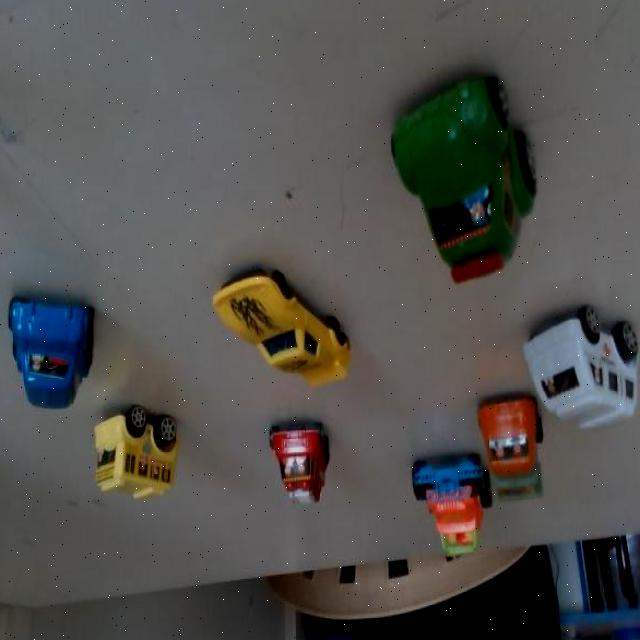car: (392, 88, 552, 279), (514, 285, 640, 453), (211, 262, 359, 397), (0, 286, 96, 412), (95, 394, 190, 502), (402, 456, 487, 564), (477, 391, 547, 513), (269, 408, 344, 516)
